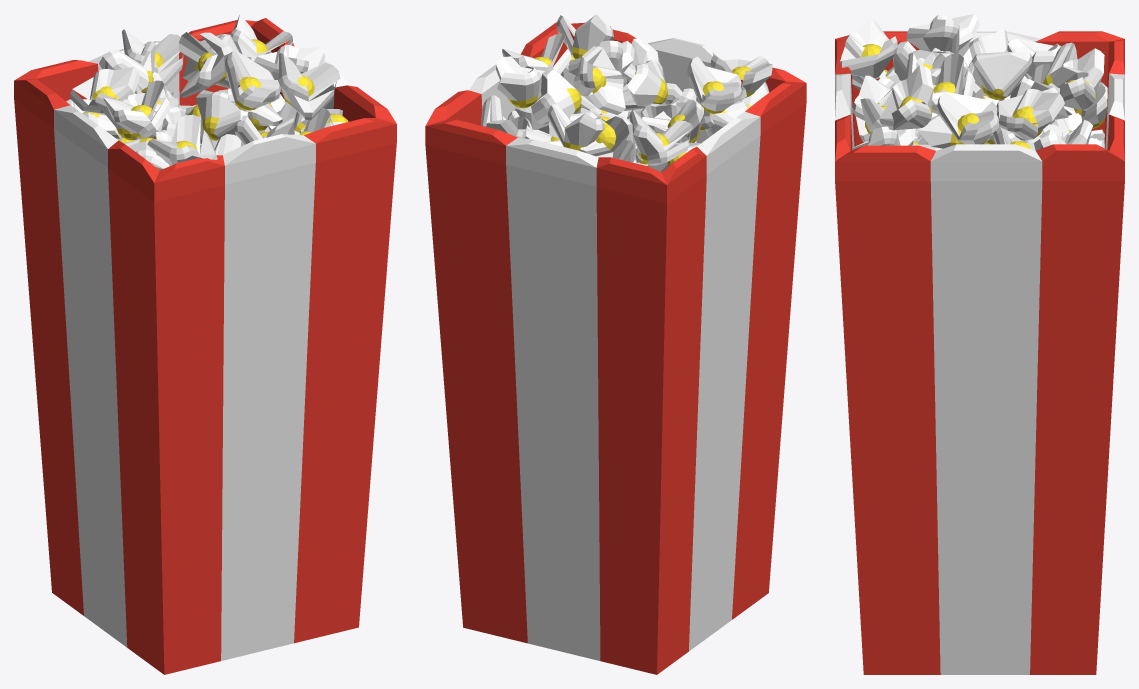
The model's file is popcorn.glb.
The picture shows the model from 3 angles, left to right: view 1: azimuth 30°, elevation 25°; view 2: azimuth 150°, elevation 25°; view 3: azimuth 270°, elevation 25°; orthographic projection. The views are drawn at different scales.
Parts seen in each view (by area): view 1: group1669640596, group438610892; view 2: group1669640596, group438610892; view 3: group1669640596, group438610892.
Boxes of the visible parts, bbox=[...] form: group1669640596: bbox=[14, 18, 396, 674]; group438610892: bbox=[54, 14, 348, 660]; group1669640596: bbox=[425, 22, 806, 674]; group438610892: bbox=[469, 14, 772, 660]; group1669640596: bbox=[835, 31, 1124, 674]; group438610892: bbox=[835, 14, 1124, 674].
Bounding box in the file's own units: 0.67 × 1.49 × 0.67.
